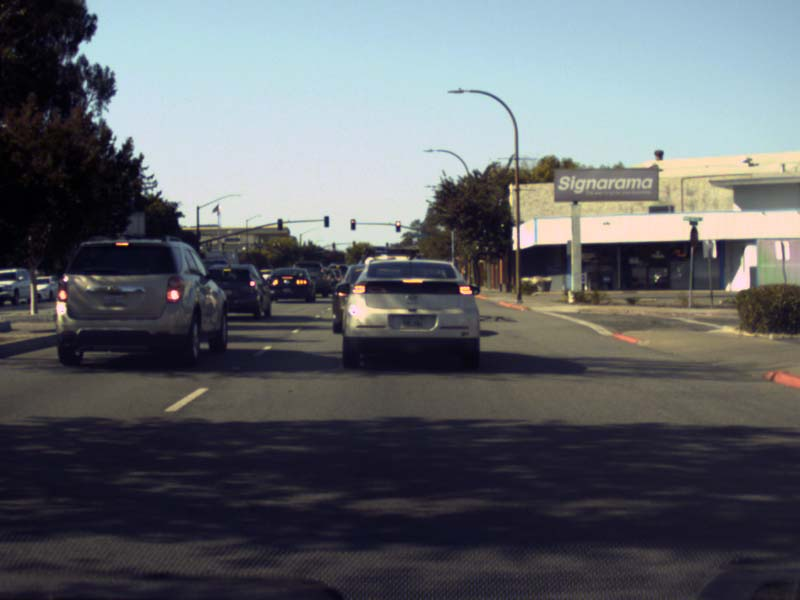Red: (394, 221, 401, 232), (350, 219, 355, 231)
